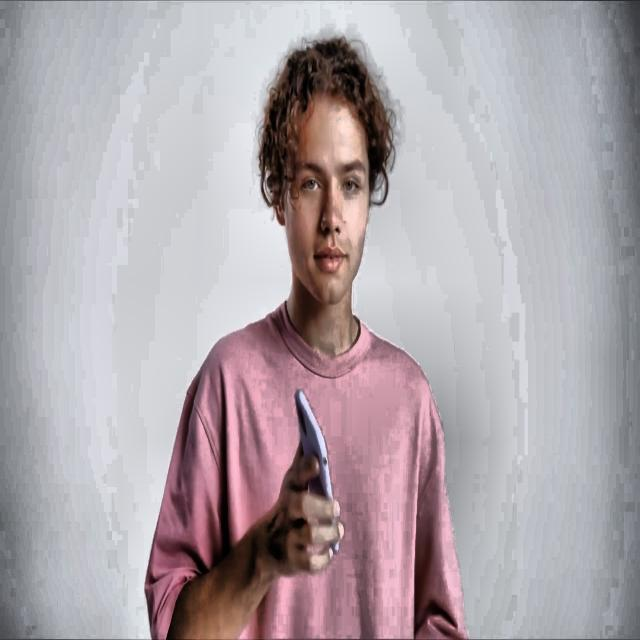Phone: (294, 384, 342, 558)
